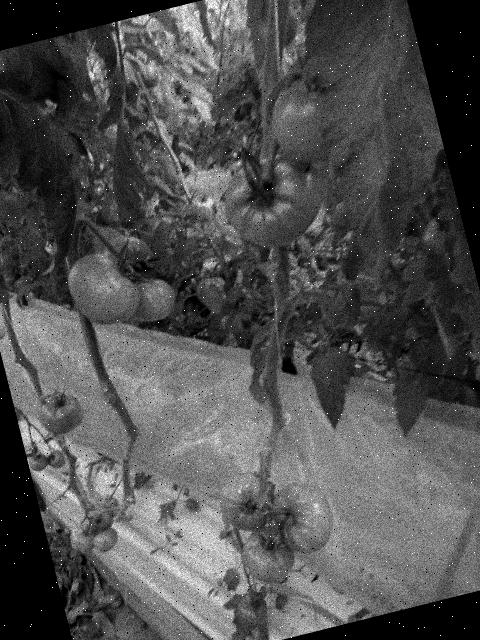b_green: (215, 143, 335, 256), (62, 244, 146, 333), (263, 79, 342, 171), (267, 475, 341, 560), (213, 465, 282, 536), (236, 521, 300, 589), (99, 228, 159, 288), (123, 272, 182, 327), (35, 389, 88, 438), (0, 183, 28, 229), (67, 521, 102, 555), (91, 526, 122, 554), (27, 451, 51, 473), (0, 319, 8, 340)
b_half_ripened: (233, 588, 272, 631), (83, 501, 117, 534), (46, 448, 66, 470)
